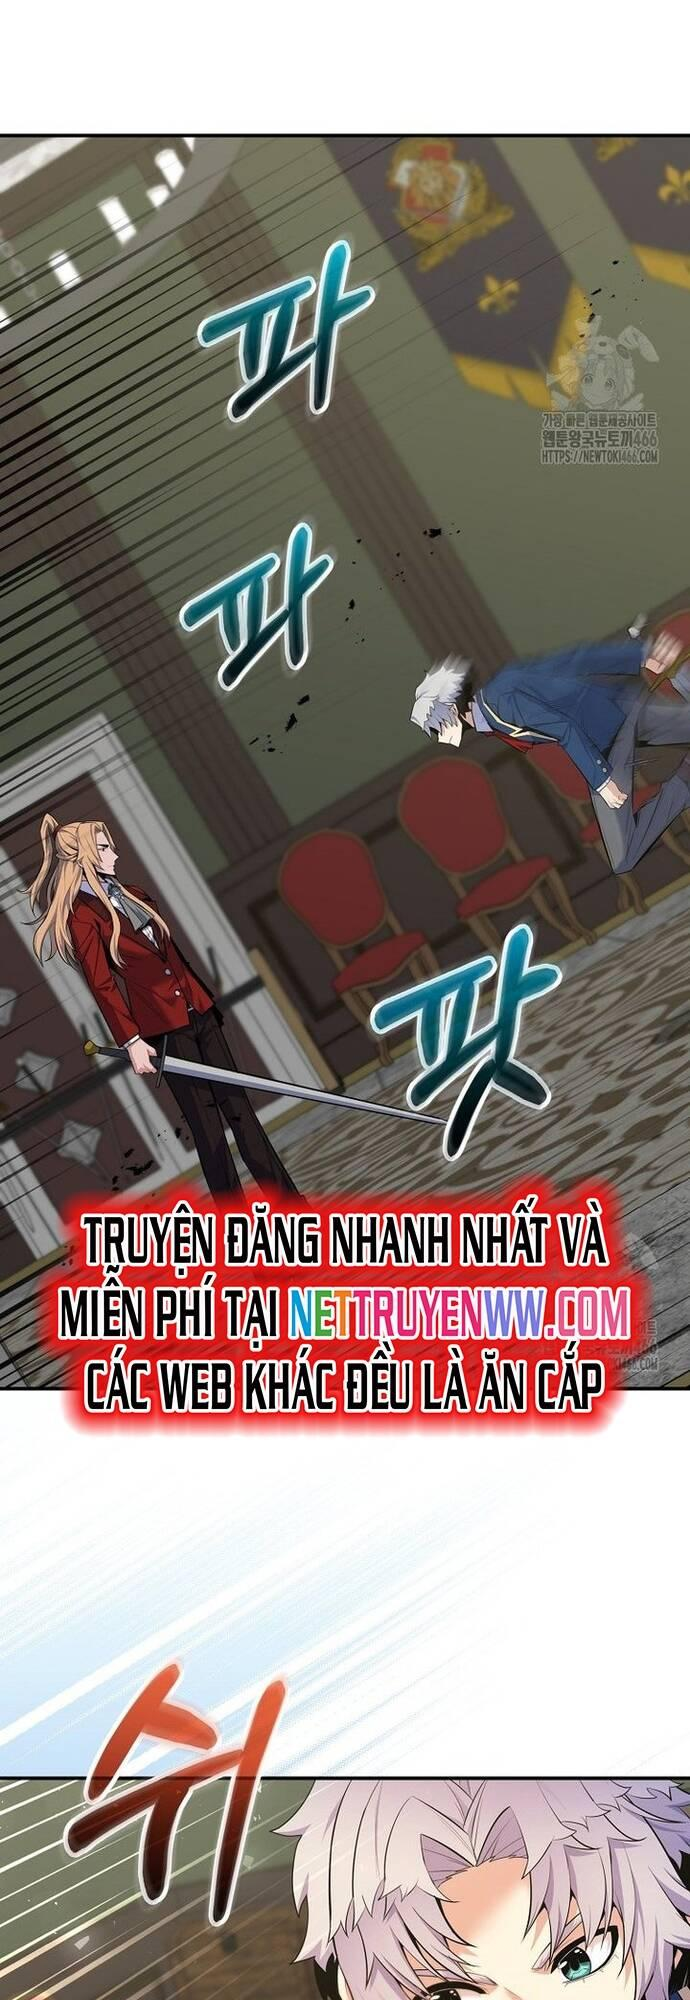quangcao: (47, 1200, 645, 1432)
